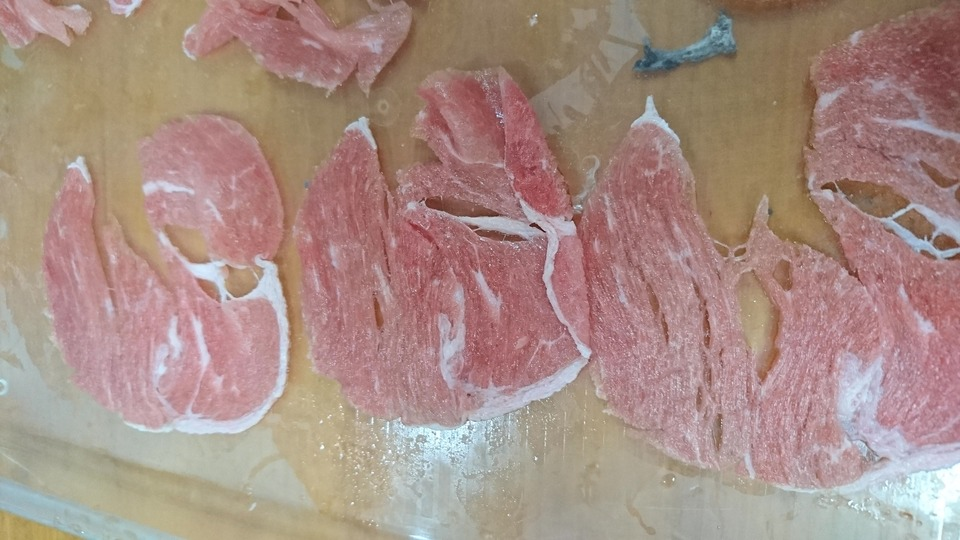restructured meat: (606, 10, 960, 494), (306, 108, 582, 439), (23, 141, 297, 436), (172, 1, 429, 119)
